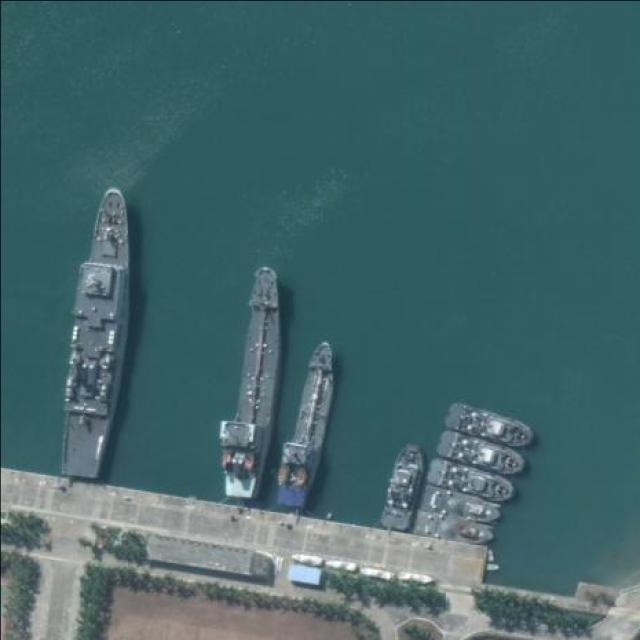Landing: (50, 182, 146, 482), (211, 263, 293, 504), (273, 335, 342, 515)
Other Warship: (436, 427, 529, 482), (427, 455, 520, 509), (445, 400, 537, 454), (378, 442, 429, 531), (420, 482, 505, 530), (412, 508, 498, 549)
